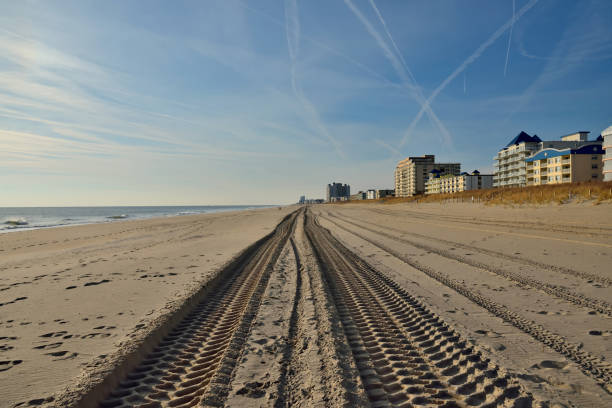vehicle_track: (328, 219, 611, 392), (306, 214, 532, 406), (100, 213, 296, 407), (335, 215, 611, 315), (385, 225, 611, 285), (402, 210, 507, 227)
